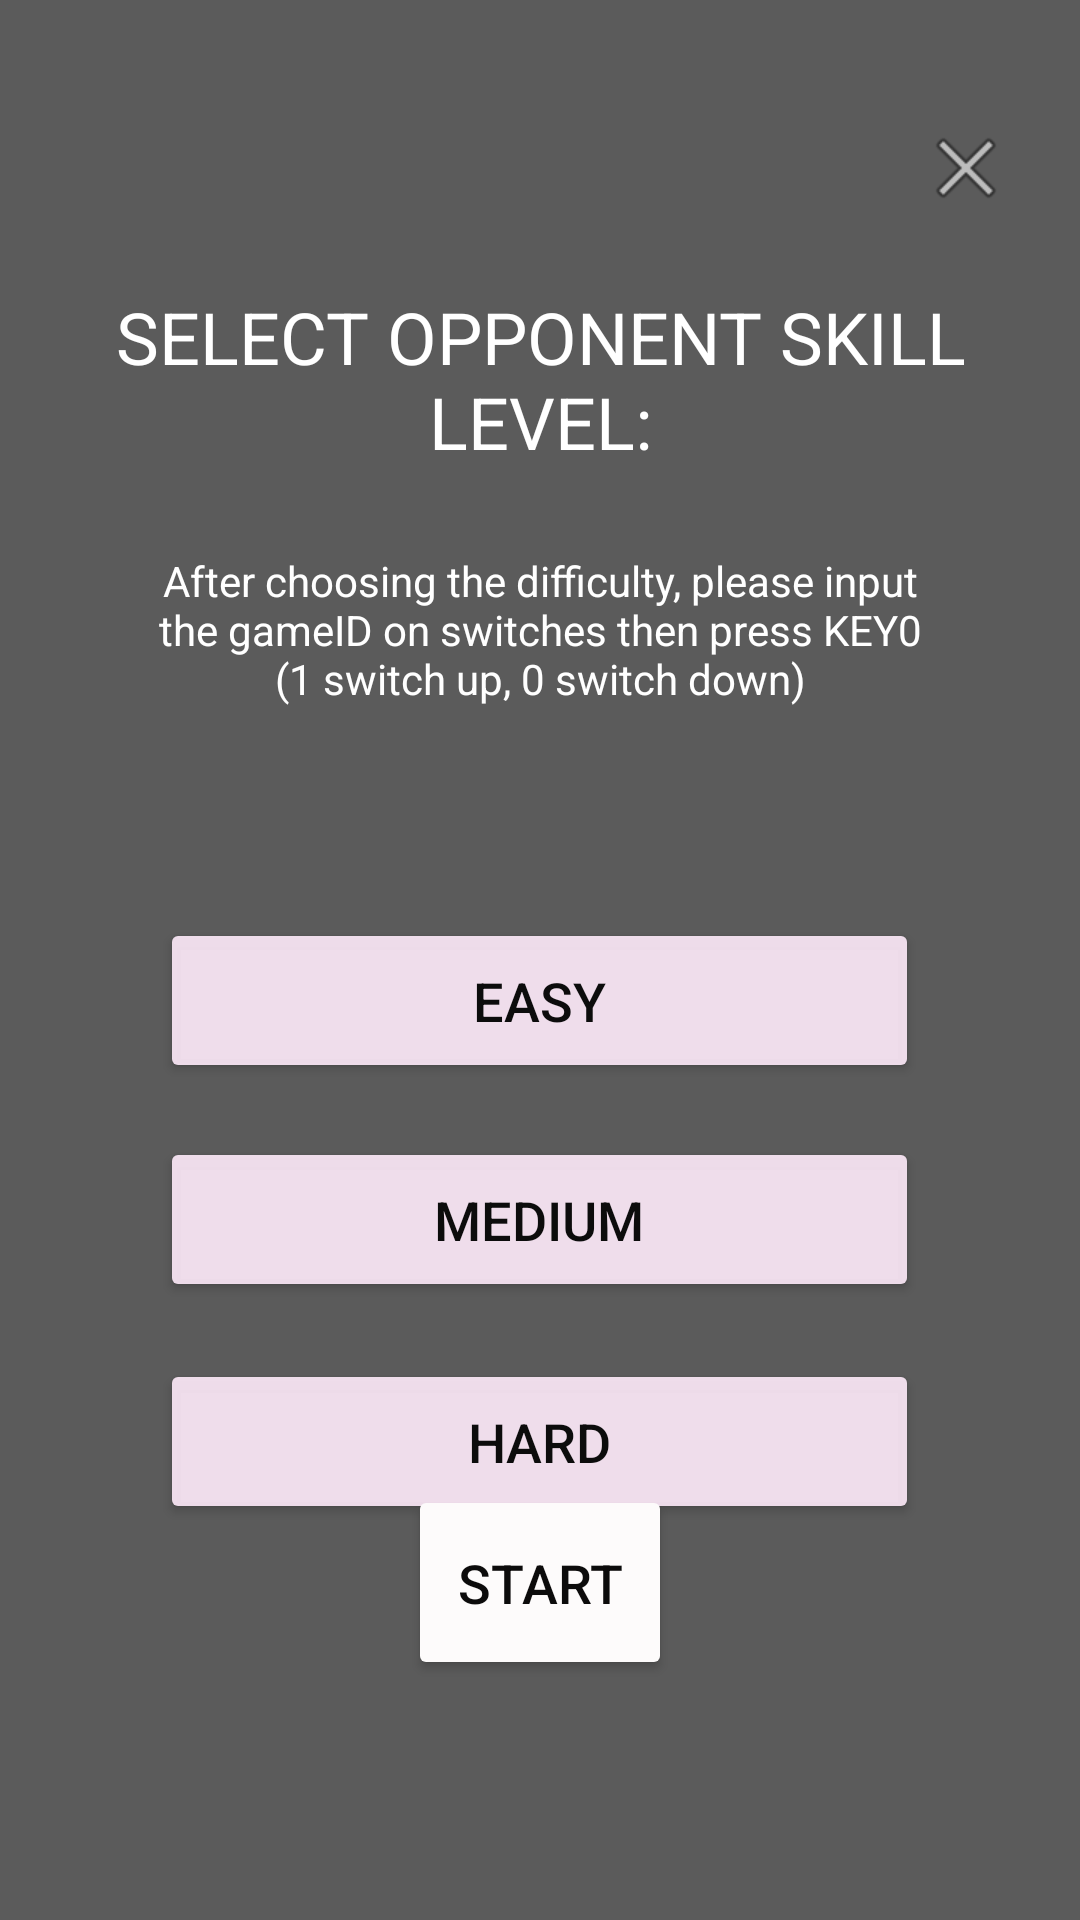

Icon click points for this 1080 x 1920 phone screenshot, format [x,y]:
close clear cancel: [966,168]
